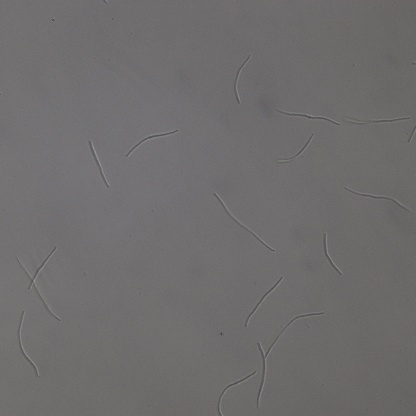Sensitive: (256, 312, 324, 407), (214, 193, 274, 251), (18, 242, 62, 320), (209, 371, 254, 416), (11, 310, 38, 376), (245, 277, 282, 325), (343, 188, 412, 213), (127, 128, 178, 155), (277, 134, 314, 163), (232, 56, 253, 106), (343, 113, 410, 128), (278, 110, 339, 126), (89, 140, 110, 186), (321, 232, 340, 274)
